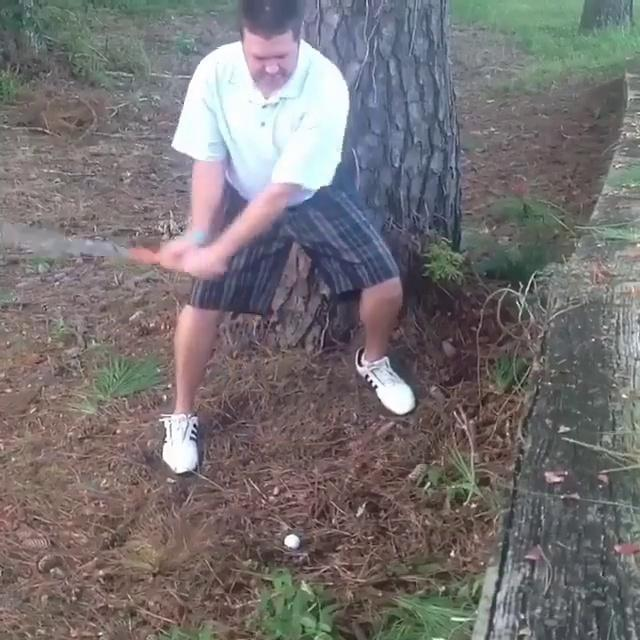ClubHandle: (0, 223, 228, 274)
GolfBall: (284, 534, 299, 549)
